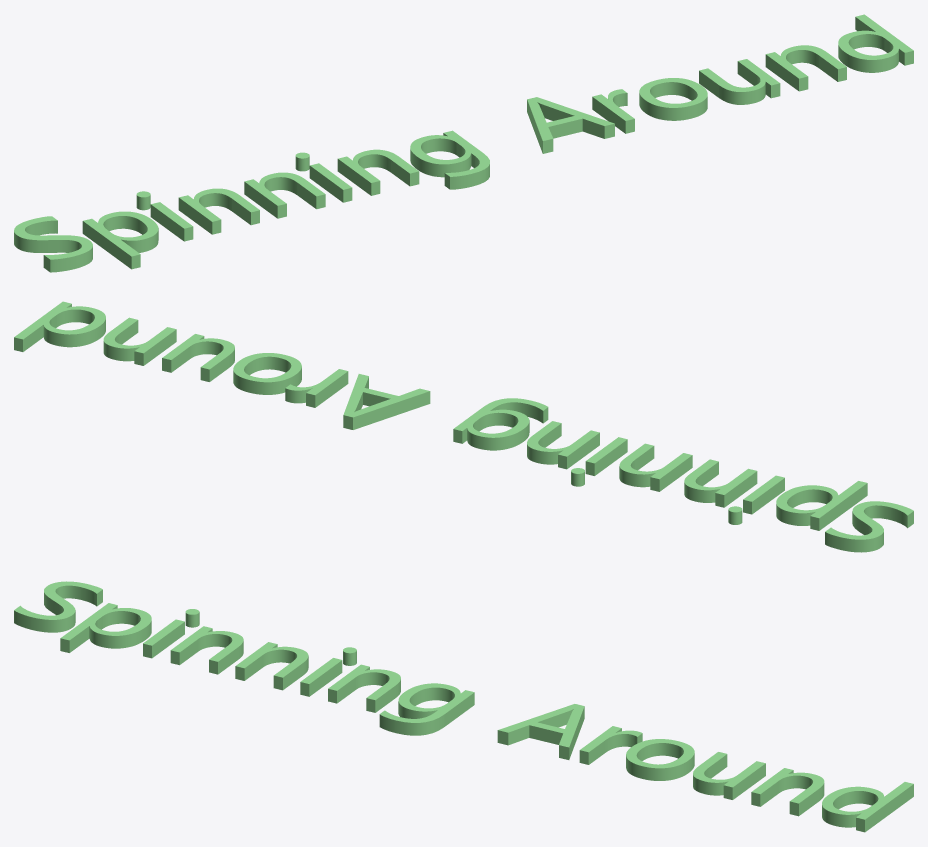
Rendered from Title.obj.
3 renders of one model, top to bottom at view 1: azimuth 30°, elevation 25°; view 2: azimuth 150°, elevation 25°; view 3: azimuth 330°, elevation 25°, orthographic.
Parts seen in each view (by area): view 1: Title; view 2: Title; view 3: Title.
Part boxes in pixels (x1,y1,x2,y2): Title: (14,14,913,272); Title: (14,301,913,552); Title: (14,581,913,832).
Bounding box in the file's own units: 0.5604 × 0.008 × 0.0734.
